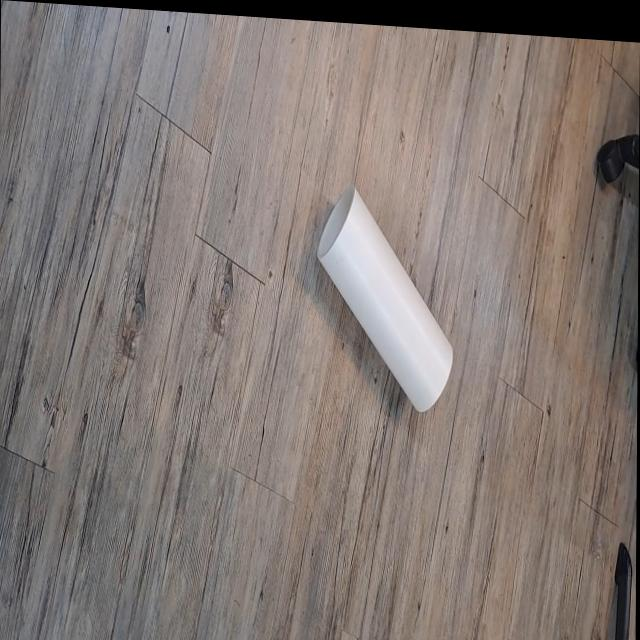CORAL: (307, 163, 465, 448)
